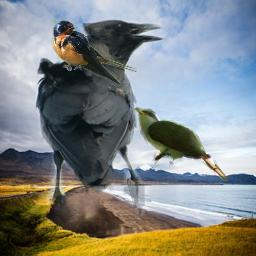Crow: (35, 13, 165, 220)
Cuckoo: (132, 107, 230, 181)
Swallow: (52, 19, 137, 84)
